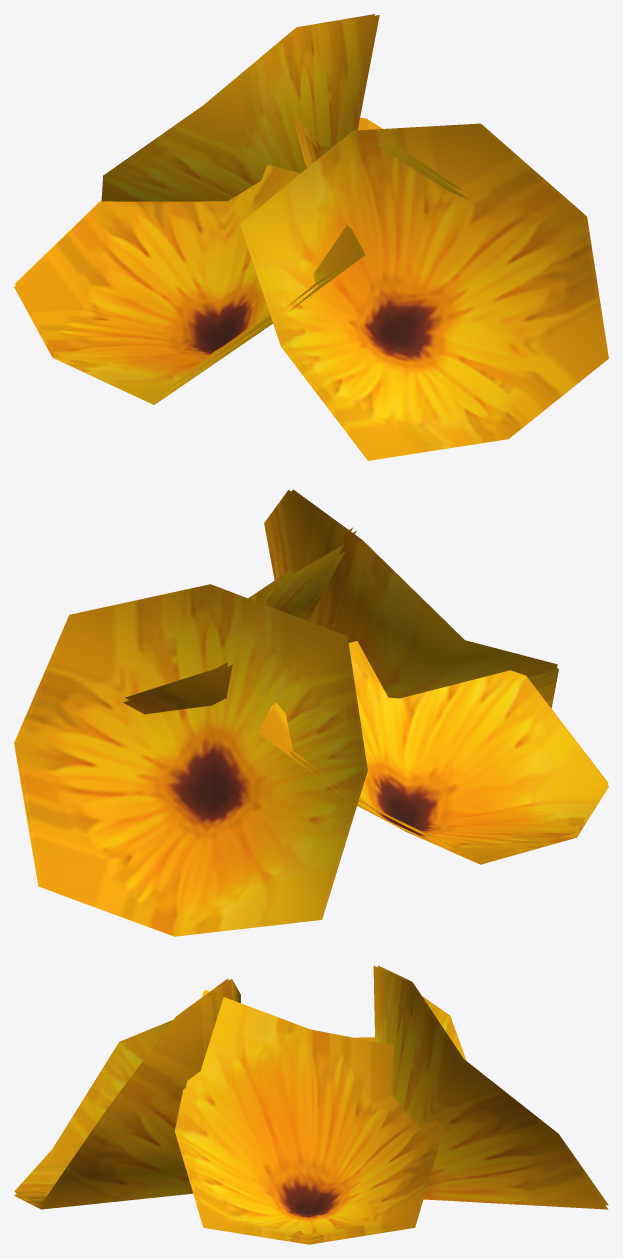
File: flower_orange_1.fbx
3 views of the same model, one above another, from view 1: azimuth 30°, elevation 25°; view 2: azimuth 150°, elevation 25°; view 3: azimuth 270°, elevation 25° (orthographic). The views are drawn at different scales.
Visible parts, largest first — view 1: flower_orange_1; view 2: flower_orange_1; view 3: flower_orange_1.
Part boxes in pixels (<box>): flower_orange_1: <box>14,14,608,460</box>; flower_orange_1: <box>14,489,608,936</box>; flower_orange_1: <box>14,965,608,1244</box>.
Bounding box in the file's own units: 0.8174 × 0.41 × 0.9509.
